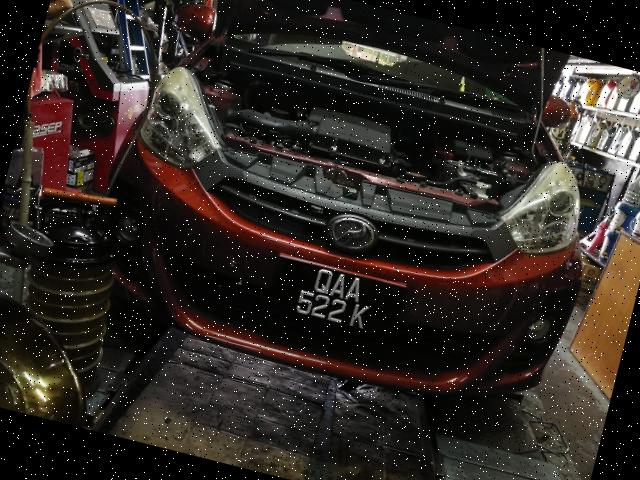License_Plate: (264, 254, 408, 353)
